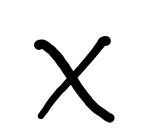mult: (34, 35, 115, 122)
